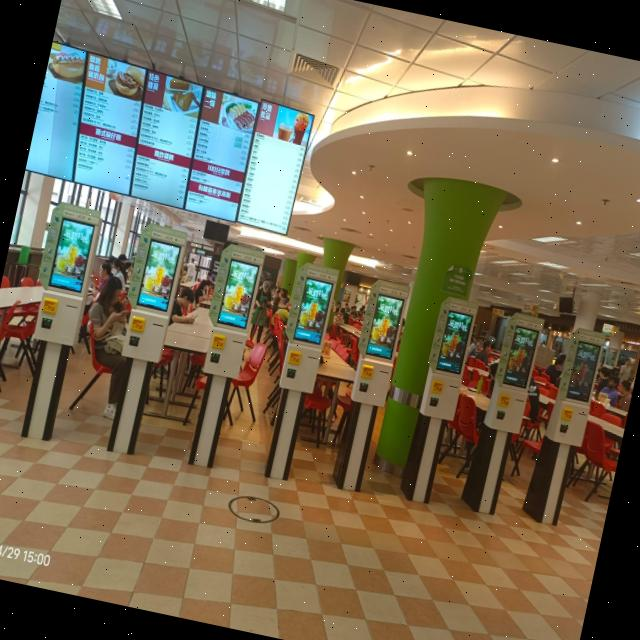orderKiosk: (23, 207, 101, 348), (116, 230, 188, 364), (192, 247, 264, 381), (277, 265, 338, 392), (348, 288, 406, 408), (420, 304, 476, 424), (548, 334, 604, 448), (487, 317, 541, 430)
